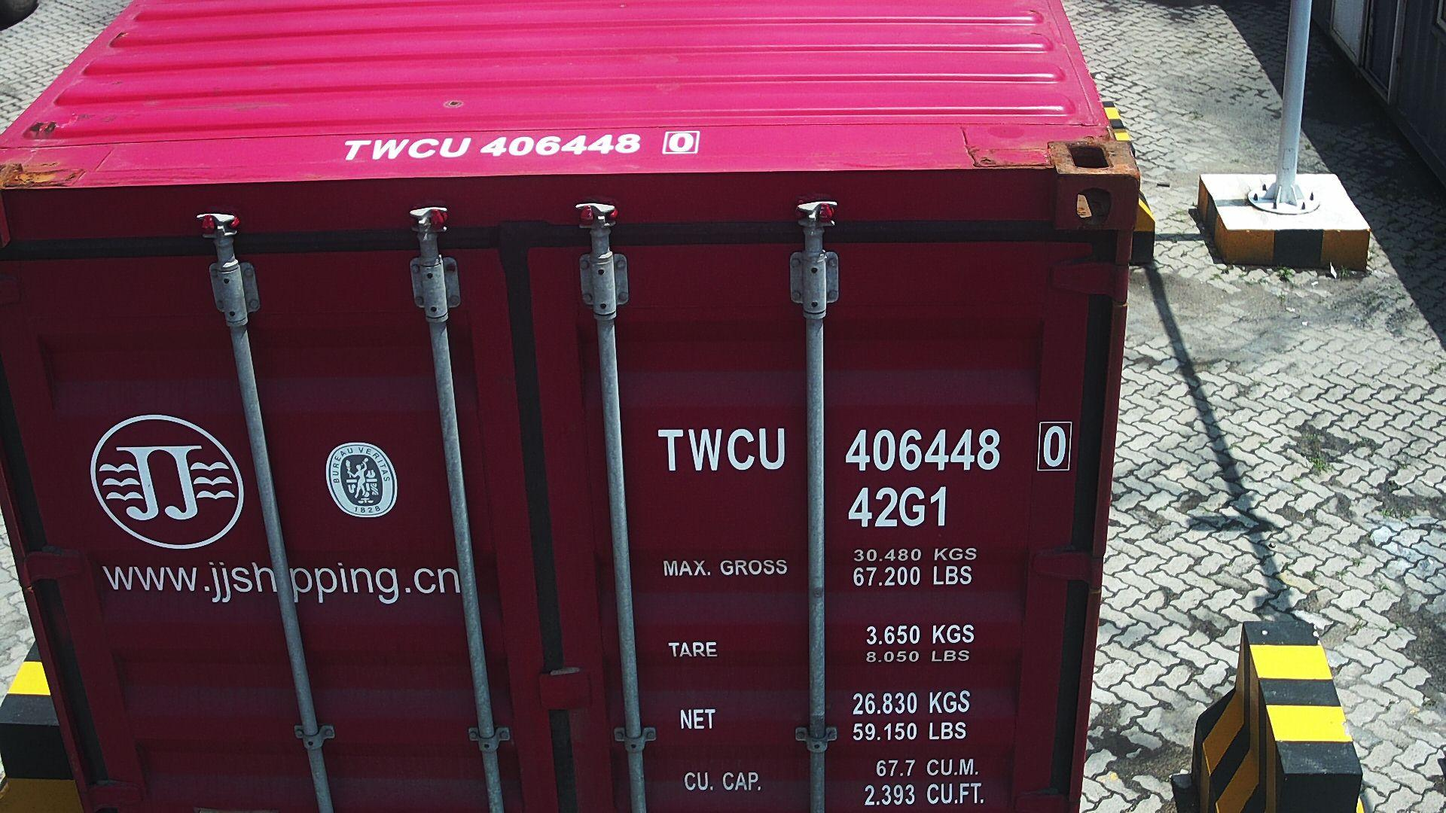container-numbers: (655, 417, 1081, 477), (333, 129, 706, 162), (846, 483, 950, 530)
